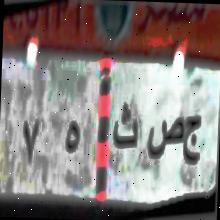5: (61, 115, 81, 165)
7: (19, 116, 40, 166)
jeem: (182, 108, 204, 168)
saad: (146, 113, 183, 172)
thaa: (111, 100, 139, 156)
